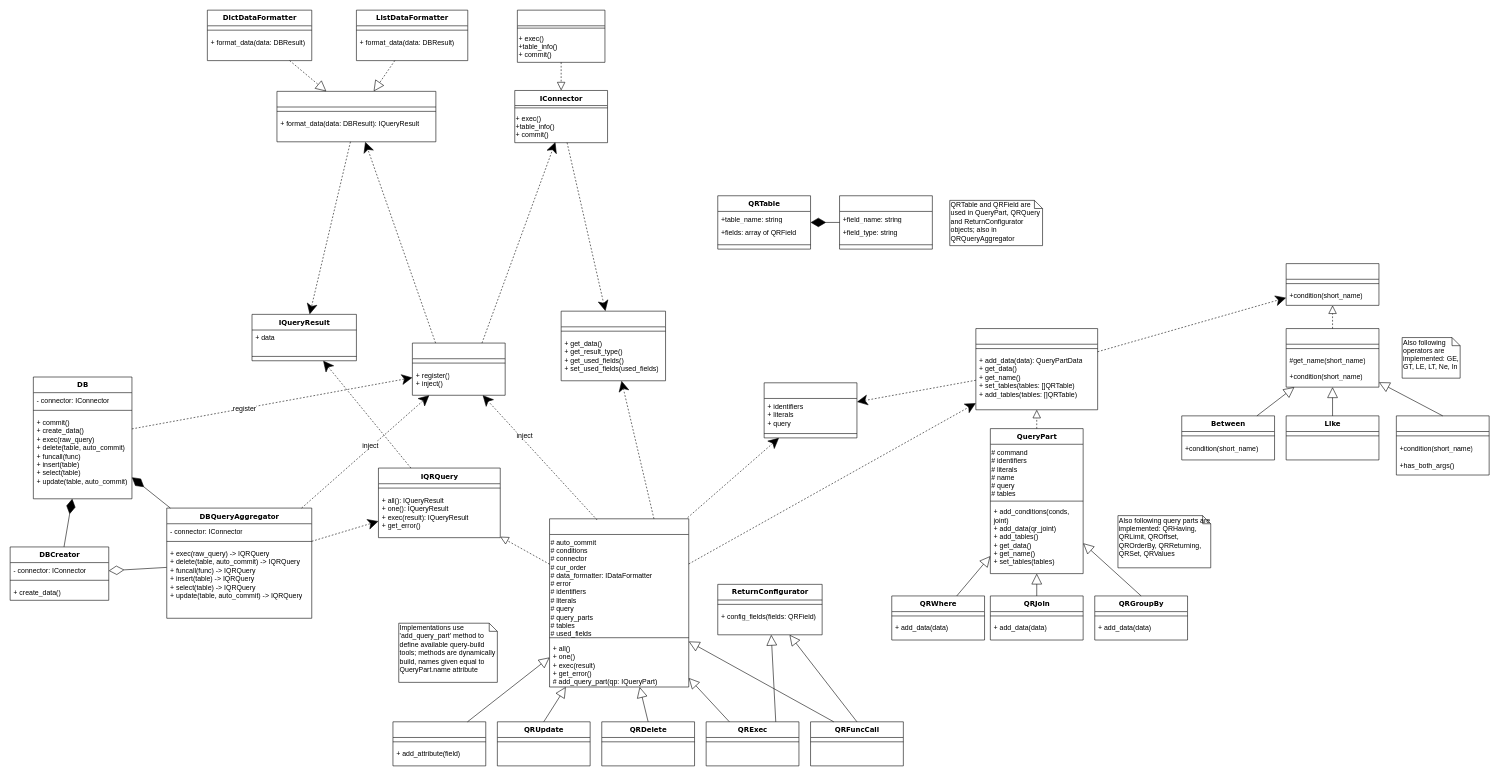
The diagram is 1499 pixels wide and 776 high, and some of its shapes have lost their labels. Here are the shapes that lost their labels. From the top down, the box of each, then its label:
(517, 10, 605, 62): PostgresConnector
(276, 91, 436, 142): IDataFormatter
(839, 195, 932, 249): QRField
(1286, 263, 1379, 305): IQROperator
(561, 311, 666, 381): DBResult
(1286, 328, 1379, 387): QROperator
(412, 342, 505, 395): DI
(975, 328, 1098, 410): IQueryPart
(764, 382, 857, 438): QueryPartData
(1396, 415, 1489, 475): Eq
(549, 518, 689, 687): QRQuery
(392, 721, 486, 766): QRSelect
